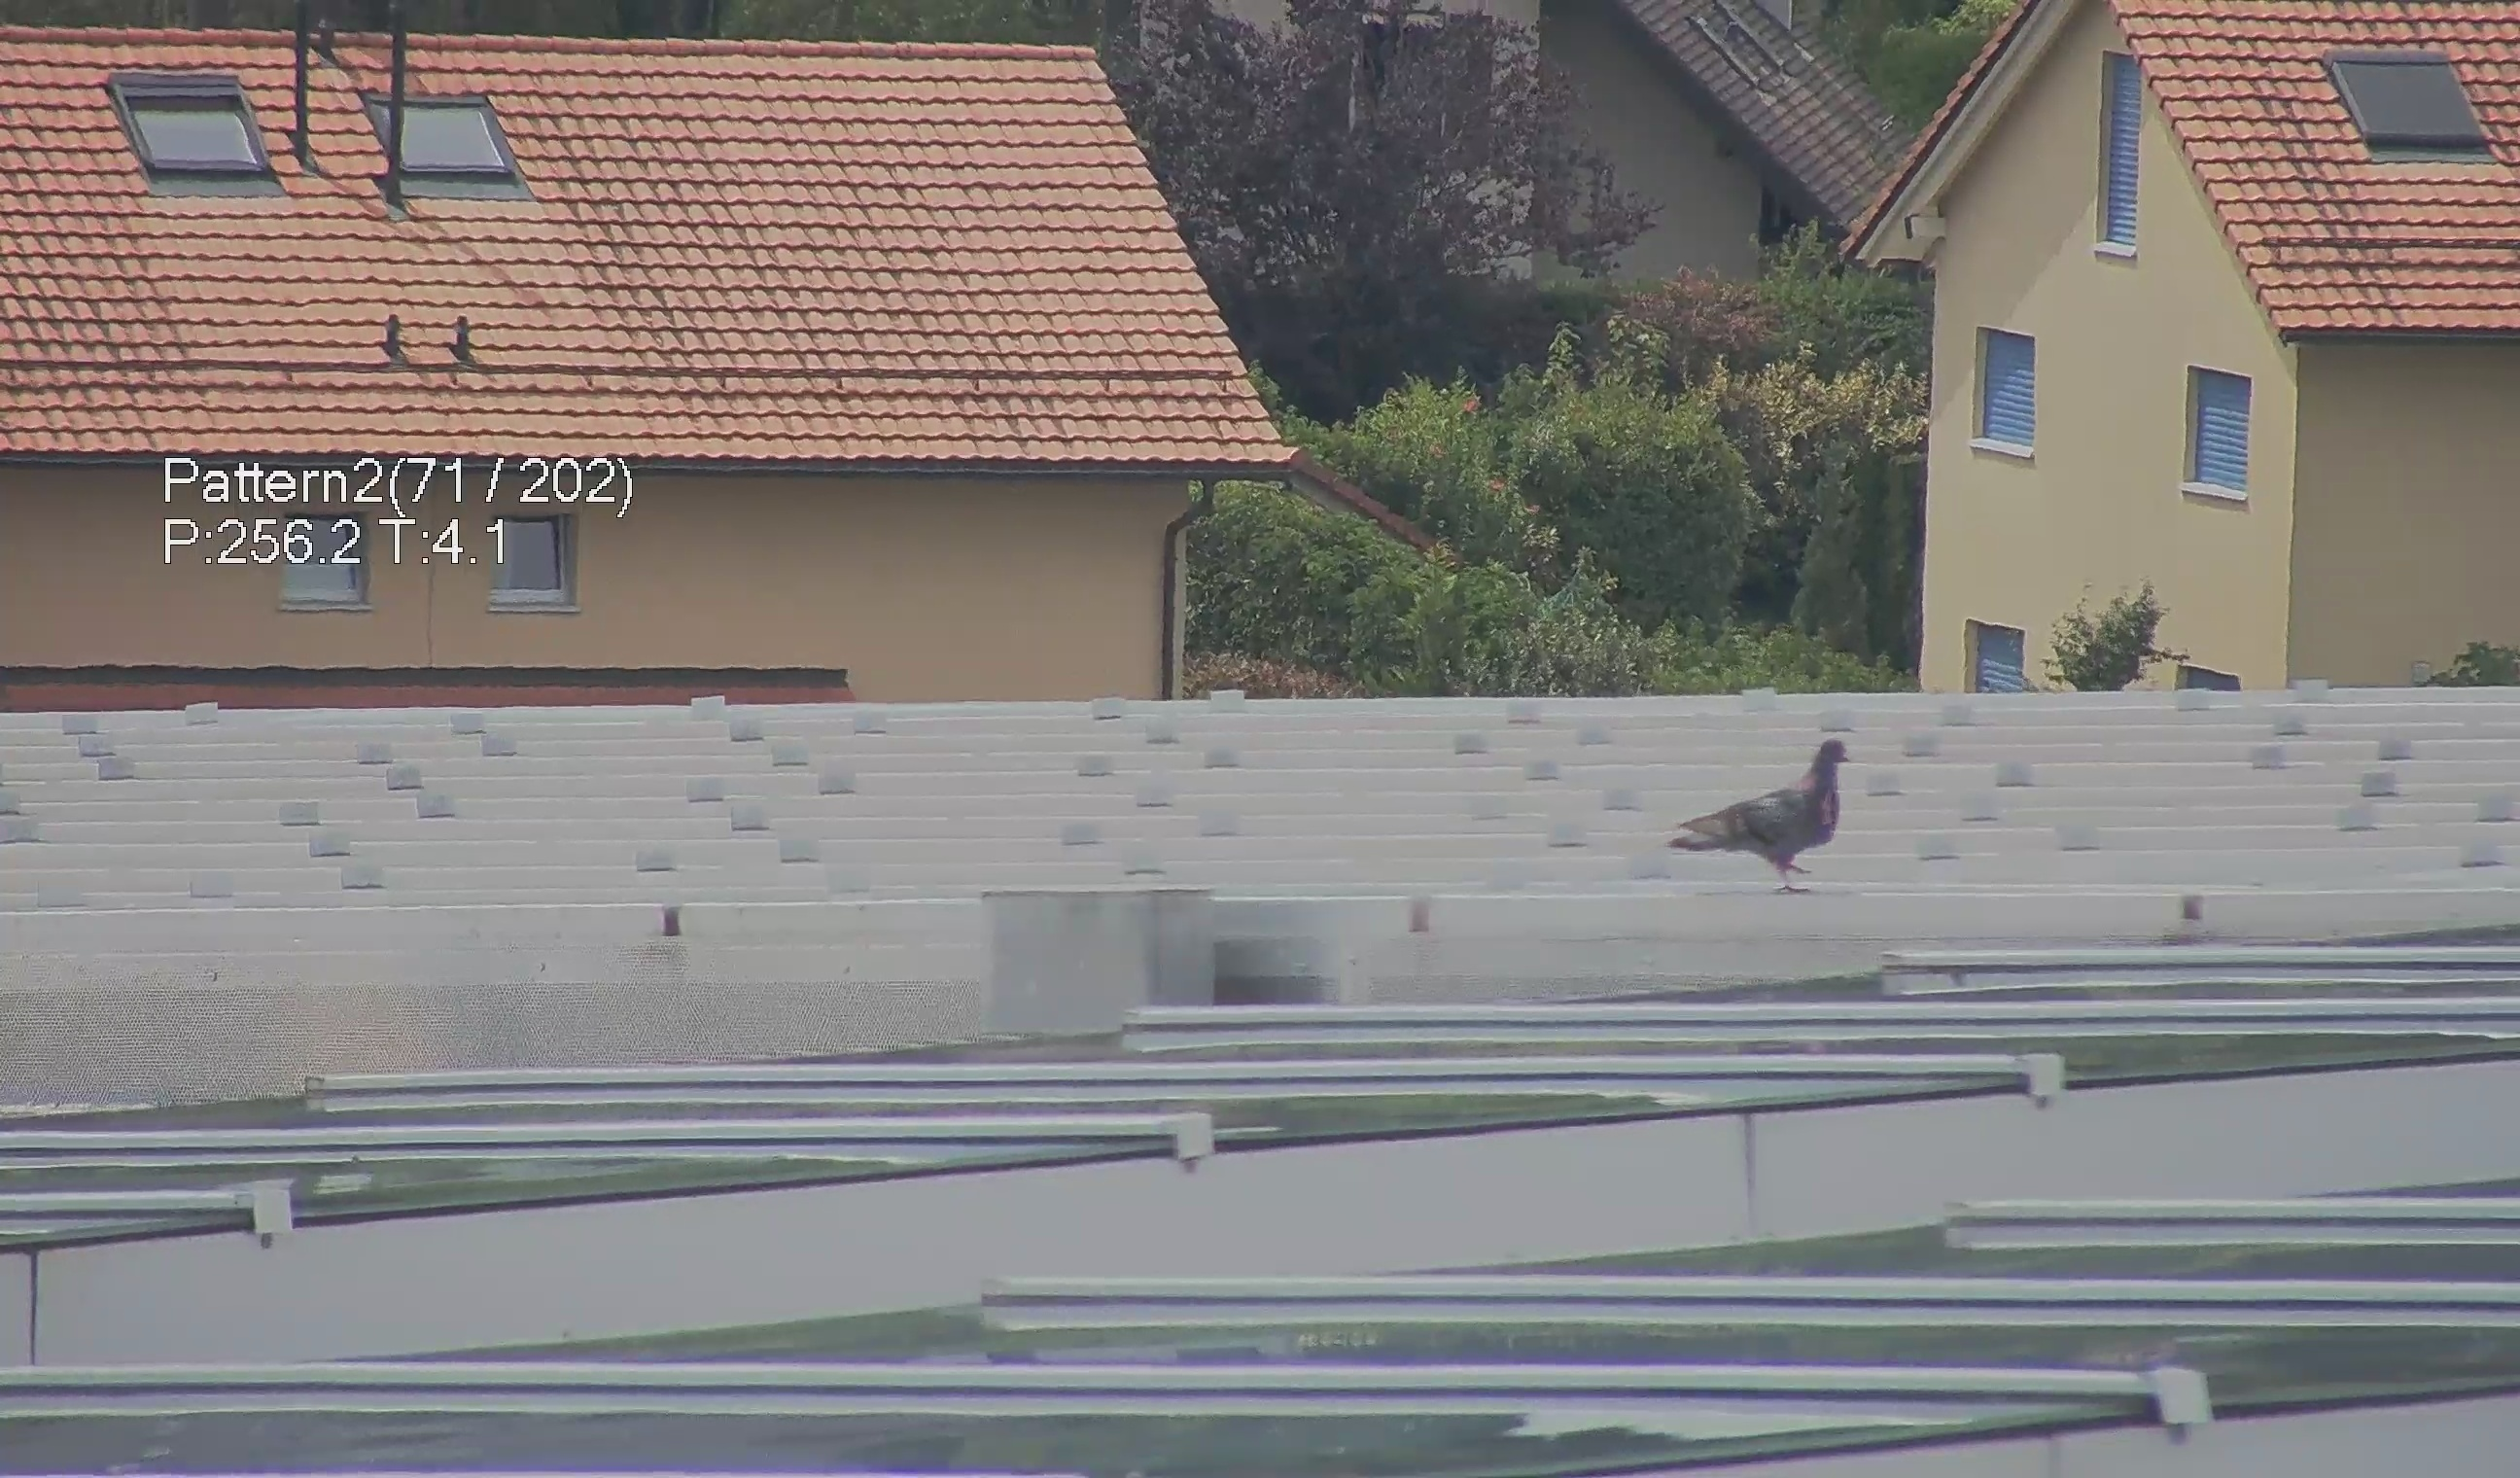Pigeon: (1671, 721, 1864, 899)
